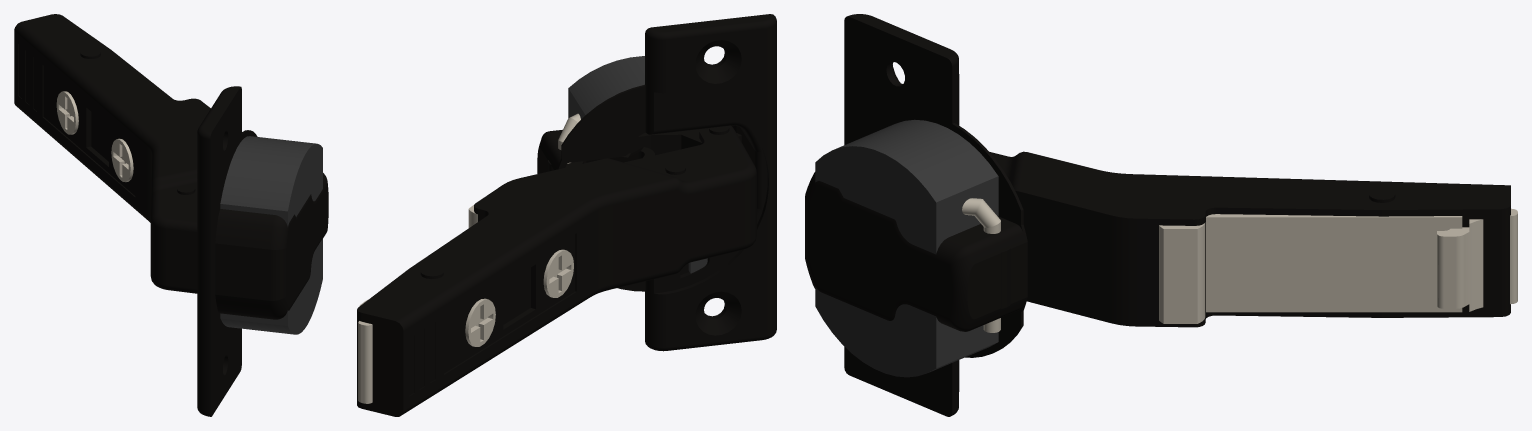
3 views of the same model, side by side, from view 1: azimuth 30°, elevation 25°; view 2: azimuth 150°, elevation 25°; view 3: azimuth 270°, elevation 25° (orthographic). The views are drawn at different scales.
Parts seen in each view (by area): view 1: bau0015166285-1, bau0017011183-1; view 2: bau0017011183-1, bau0015166285-1, bau0019426112-1, bau0015167707-1, bau0015167363-1; view 3: bau0015166285-1, bau0017011183-1, bau0019426112-1.
Boxes of the visible parts, left/top/right/bottom form: bau0015166285-1: left=197, top=86, right=328, bottom=416; bau0017011183-1: left=14, top=14, right=210, bottom=293; bau0017011183-1: left=357, top=125, right=756, bottom=416; bau0015166285-1: left=537, top=14, right=776, bottom=351; bau0019426112-1: left=358, top=205, right=477, bottom=403; bau0015167707-1: left=629, top=129, right=741, bottom=155; bau0015167363-1: left=548, top=147, right=654, bottom=171; bau0015166285-1: left=805, top=14, right=1027, bottom=416; bau0017011183-1: left=989, top=151, right=1510, bottom=327; bau0019426112-1: left=1159, top=208, right=1517, bottom=323.
Bounding box in the file's own units: 38.29 × 57 × 103.
